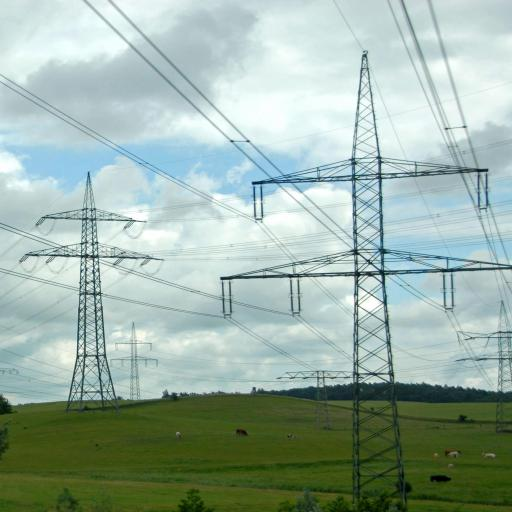ss_2: (222, 48, 511, 509), (24, 172, 156, 408), (459, 297, 512, 431), (112, 321, 158, 399)
